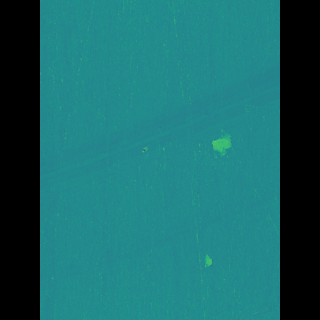Loch: (70, 56, 250, 202), (68, 186, 245, 295), (194, 129, 216, 166), (189, 253, 202, 270)
